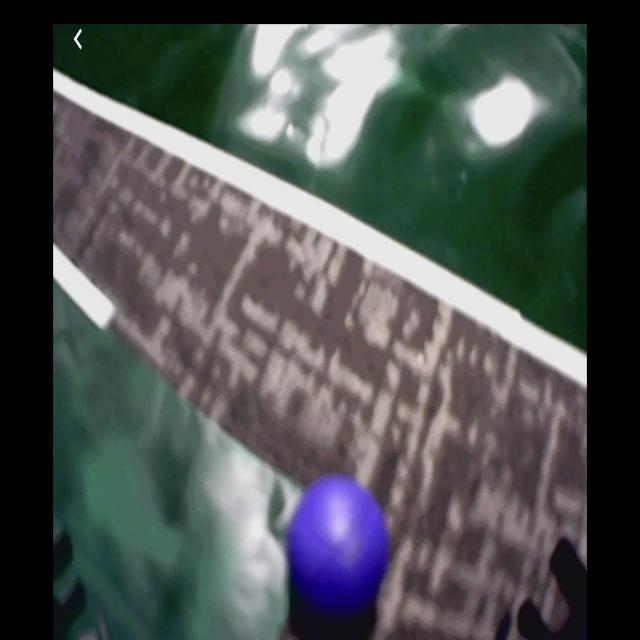ball: (285, 475, 391, 622)
